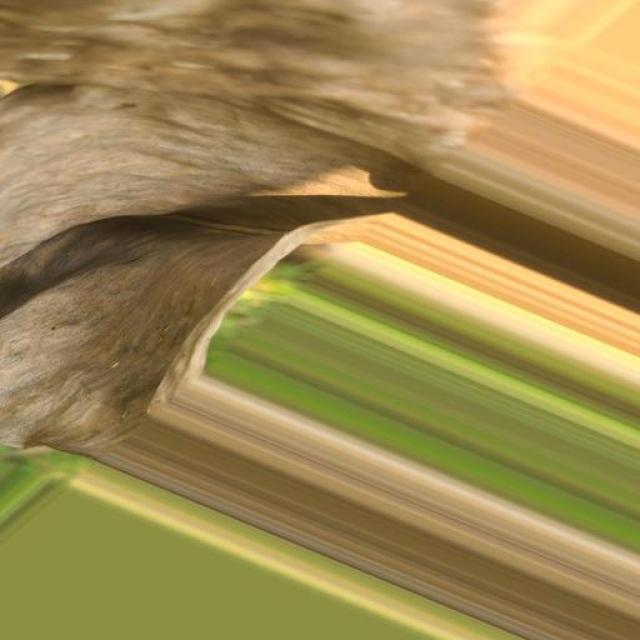Bract_mosaic_virus: (1, 4, 640, 558)
